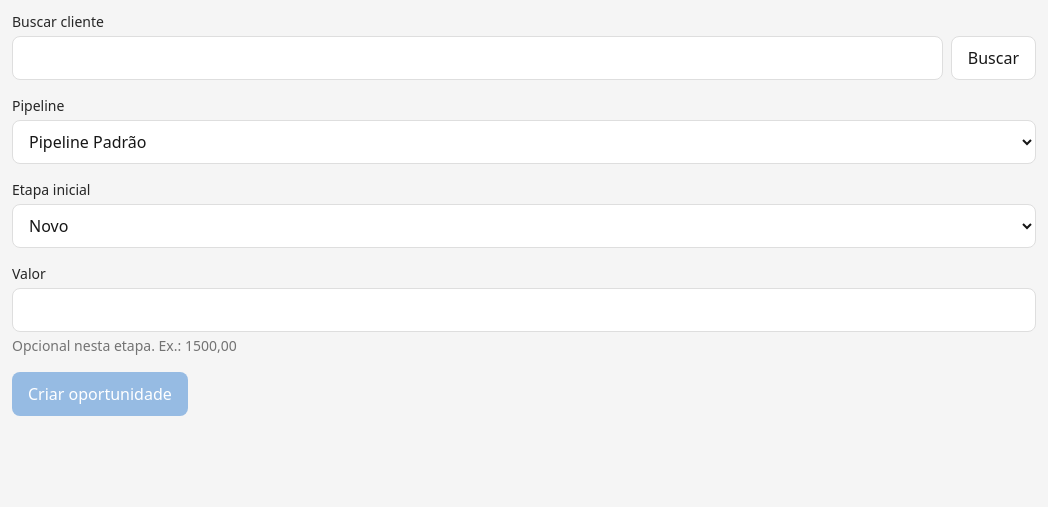
Test case: OpportunityForm › valor inválido mostra erro e bloqueia o envio
Expected: the dropdown labelled "Etapa inicial" is shown, [12, 204, 1036, 248]
Step 1. Type "Alfa" into the field labelled "Buscar cliente" → (477,58), box [12, 36, 943, 80]
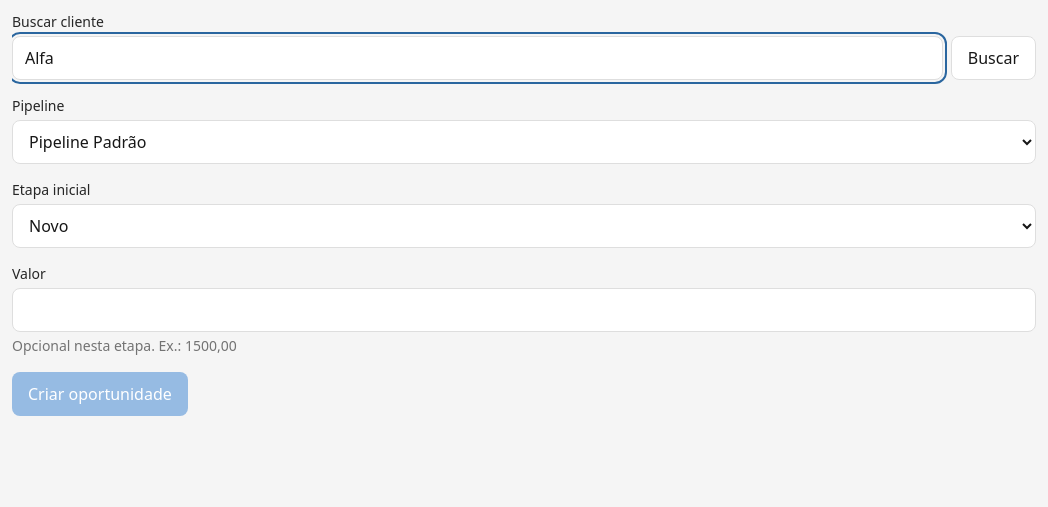
Step 2. Click the button "Buscar" → (993,58), box [951, 36, 1036, 80]
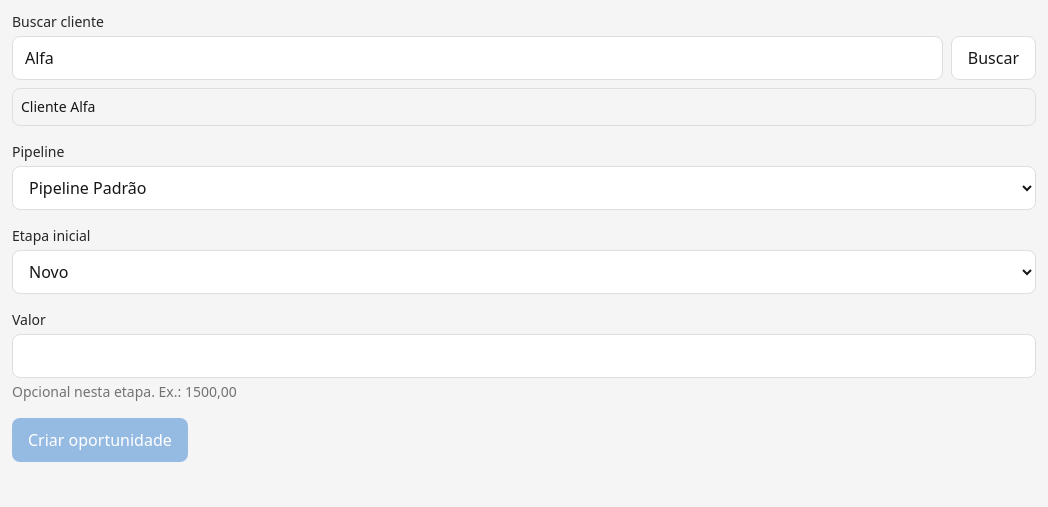
Step 3. Click the button "Cliente Alfa" → (58,106), box [12, 88, 1036, 126]
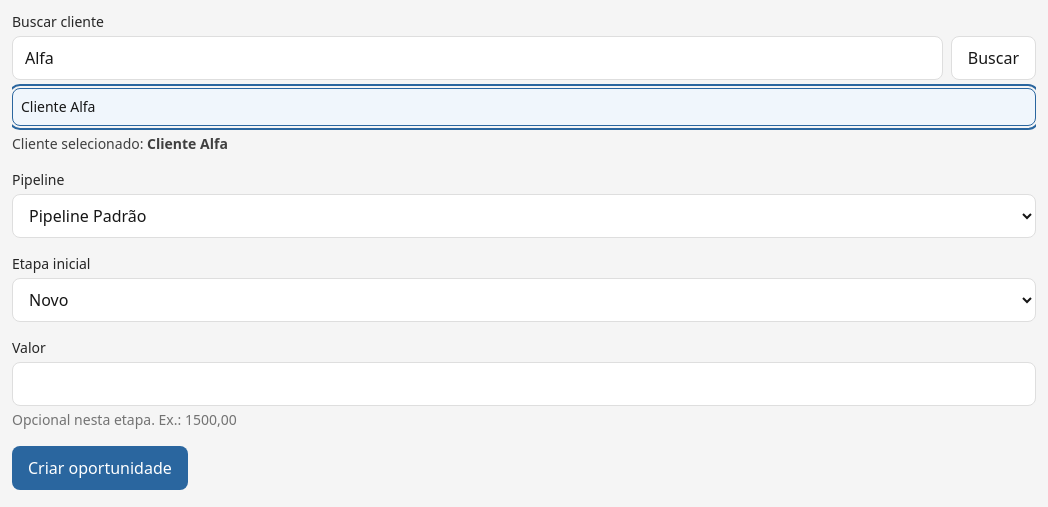
Step 4. Type "abc" into the field labelled "Valor" → (524,384), box [12, 362, 1036, 406]
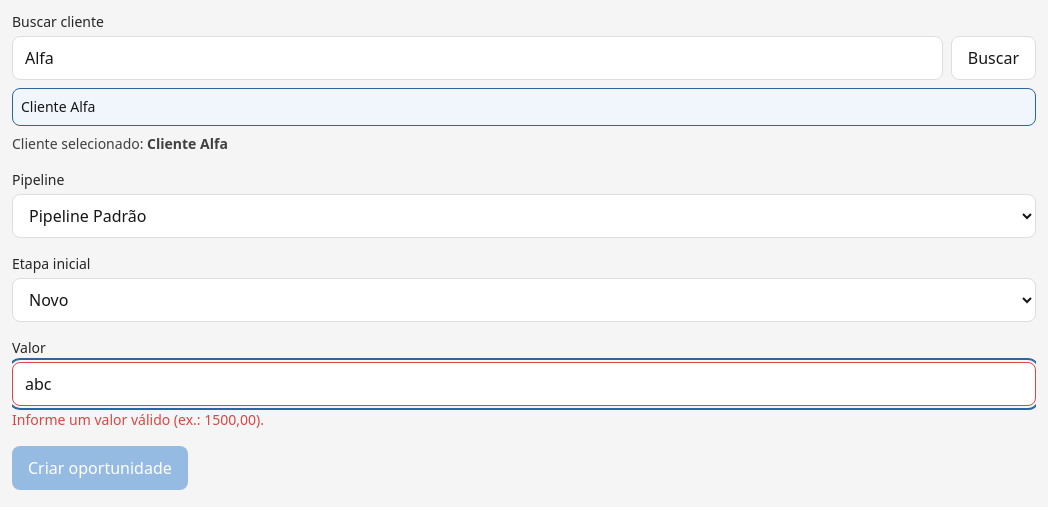
Expected: the text "Informe um valor válido (ex.: 1500,00)." is shown, [12, 410, 264, 429]
Expected: the button "Criar oportunidade" is disabled, [12, 446, 188, 490]
